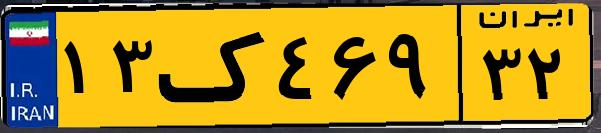1: (57, 26, 110, 100)
2: (525, 38, 570, 115)
3: (475, 38, 525, 113), (110, 28, 158, 98)
4: (270, 28, 330, 110)
6: (330, 28, 385, 110)
9: (385, 28, 445, 110)
ک: (158, 12, 270, 120)
